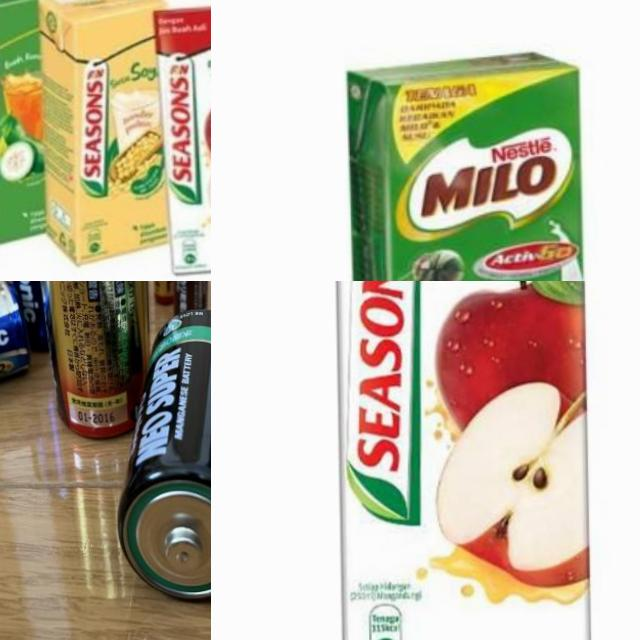bateria: (112, 308, 211, 599), (27, 281, 159, 444), (0, 281, 85, 359), (0, 281, 35, 419), (169, 281, 211, 328)
caixinha: (329, 281, 592, 640), (348, 46, 588, 281), (38, 0, 170, 266), (150, 0, 211, 272), (0, 0, 57, 254)
